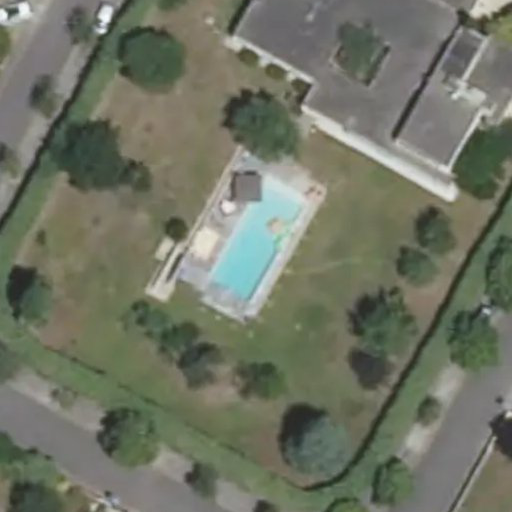pool: (207, 176, 308, 302)
